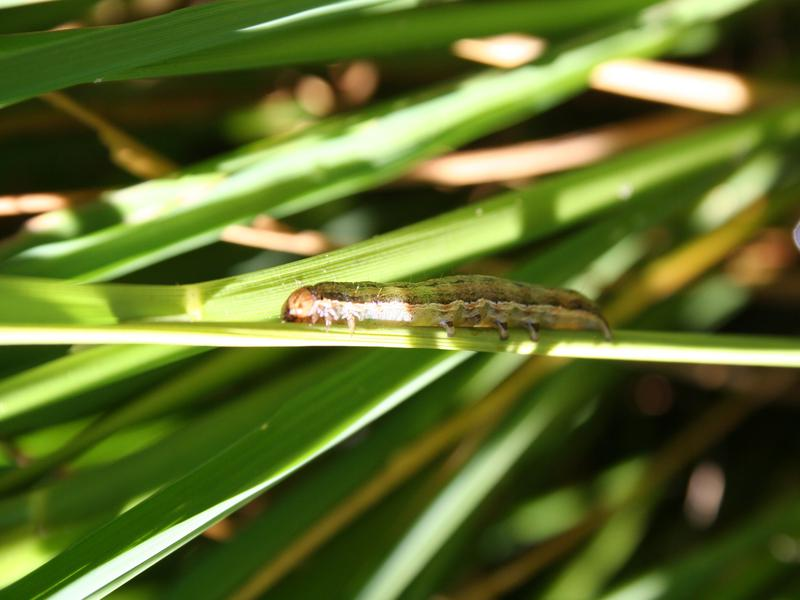Armyworms: (273, 258, 629, 374)
